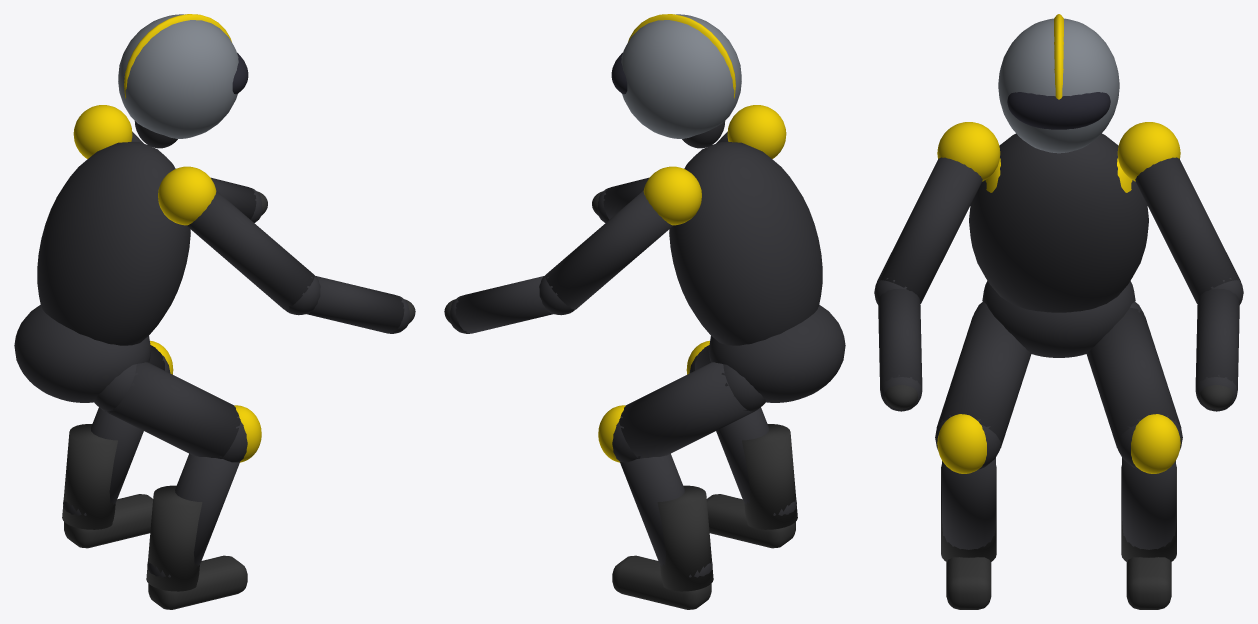
File: NAKED890_Pilota.glb
The picture shows the model from 3 angles, left to right: view 1: azimuth 30°, elevation 25°; view 2: azimuth 150°, elevation 25°; view 3: azimuth 270°, elevation 25°; orthographic projection. The views are drawn at different scales.
Parts seen in each view (by area): view 1: NAKED890_Pilota; view 2: NAKED890_Pilota; view 3: NAKED890_Pilota.
Boxes of the visible parts, x1,y1,x2,y2 form: NAKED890_Pilota: [14, 14, 415, 609]; NAKED890_Pilota: [444, 14, 845, 609]; NAKED890_Pilota: [874, 14, 1243, 609].
Bounding box in the file's own units: 0.8649 × 1.43 × 0.82.
